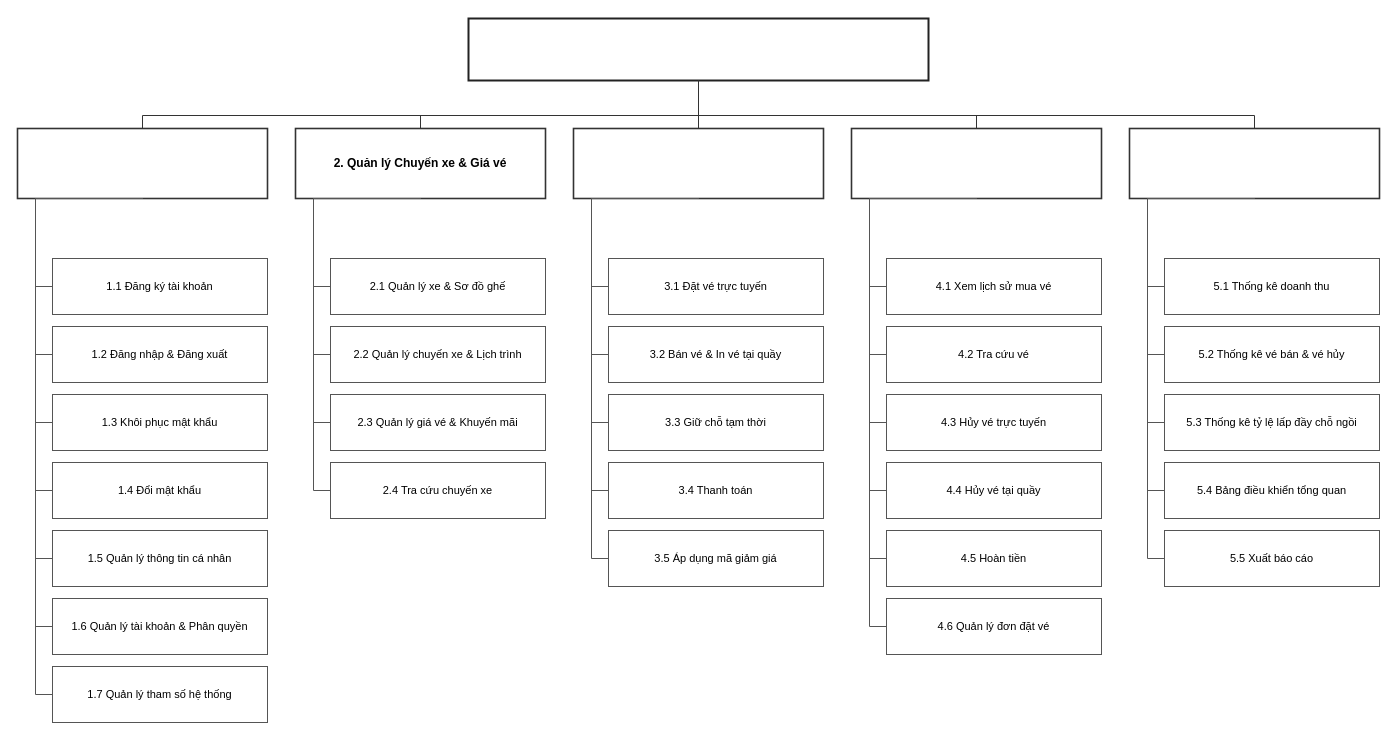
This 1398x740 diagram has some shape labels left out. The centre of each missing label's shape, as x and y in pixels:
1. Quản lý Tài khoản & Người dùng: (142,163)
3. Bán vé & Thanh toán: (698,163)
4. Quản lý Vé & Hoàn tiền: (976,163)
5. Thống kê & Báo cáo: (1254,163)
HỆ THỐNG ĐẶT VÉ XE KHÁCH TRỰC TUYẾN: (698,49)
